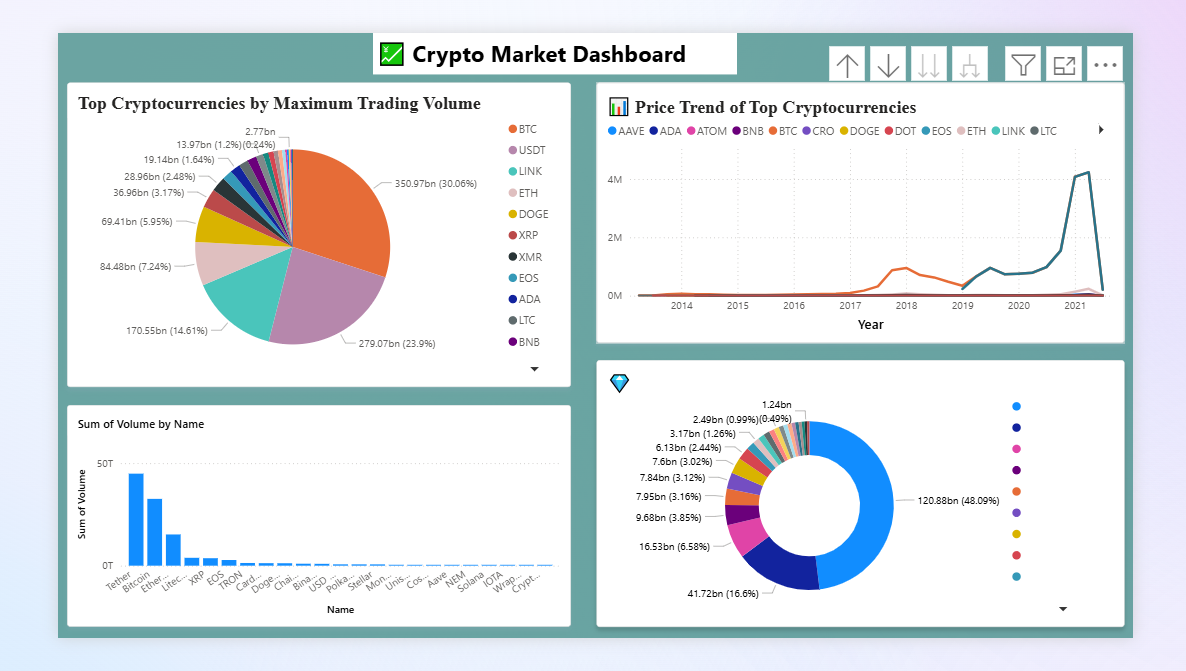

This screenshot's page, from the dashboard's own definition file:
{"tool":"powerbi","page":{"name":"TOP CRYPTO","canvas":[1280,720],"ordinal":0},"visuals":[{"type":"pieChart","title":"Top Cryptocurrencies by Maximum Trading Volume","fields":{"Category":["archive_2.Symbol"],"Y":["Max(archive_2.Volume)"]},"box":[10.7,58.9,600,362.5],"z":0},{"type":"donutChart","title":"💎 Market Share by Cryptocurrency","fields":{"Category":["archive_2.Name"],"Y":["Avg(archive_2.Marketcap)"]},"box":[640,389.1,629.1,318.2],"z":1000},{"type":"lineChart","title":"📊 Price Trend of Top Cryptocurrencies","fields":{"Category":["archive_2.Date.Variation.Date Hierarchy.Year","archive_2.Date.Variation.Date Hierarchy.Quarter"],"Y":["Sum(archive_2.Close)"],"Series":["archive_2.Symbol"]},"box":[640.6,59.4,629,310.1],"z":2000},{"type":"columnChart","fields":{"Category":["archive_2.Name"],"Y":["Sum(archive_2.Volume)"]},"box":[10.7,442.9,600,264.3],"z":3000},{"type":"textbox","box":[375.4,0,433.3,49.3],"z":4000}]}

Visuals, with their boxes on the page's 1280x720 design canvas (x1, y1, x2, y2). These are canvas units, not pixel positions in the 1186x671 screenshot, which may show the page scaled, cropped or inside an application window:
"Top Cryptocurrencies by Maximum Trading Volume" pieChart: (x1=11, y1=59, x2=611, y2=421)
"💎 Market Share by Cryptocurrency" donutChart: (x1=640, y1=389, x2=1269, y2=707)
"📊 Price Trend of Top Cryptocurrencies" lineChart: (x1=641, y1=59, x2=1270, y2=370)
columnChart - archive_2.Name x Sum(archive_2.Volume): (x1=11, y1=443, x2=611, y2=707)
textbox: (x1=375, y1=0, x2=809, y2=49)
